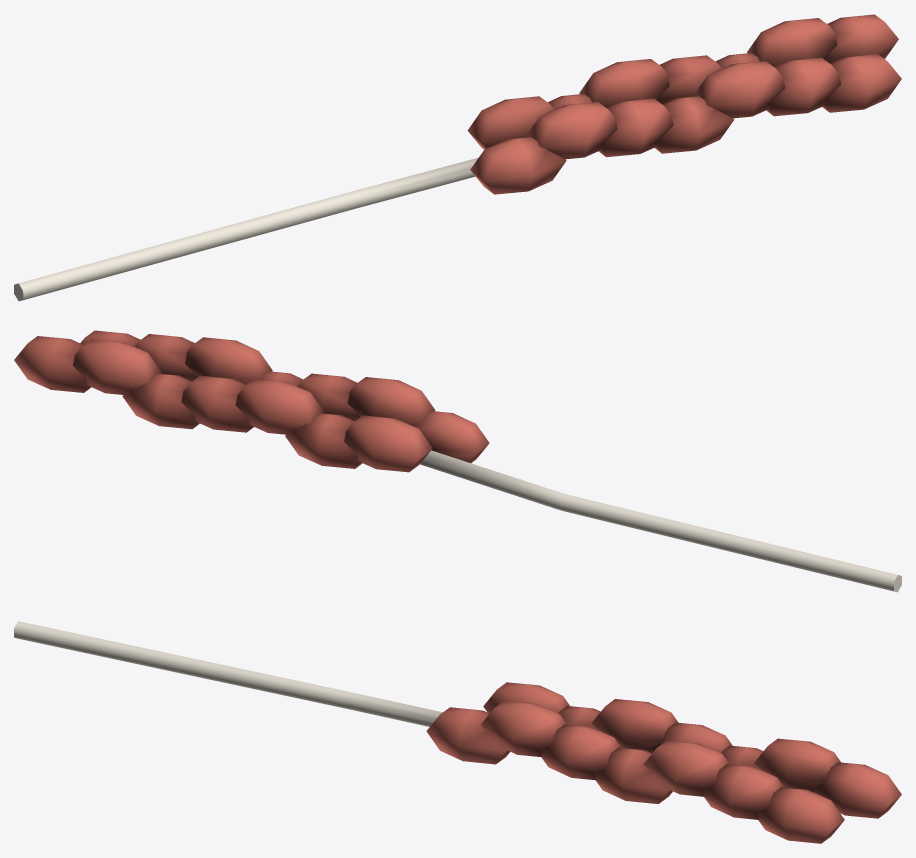
The model's file is forage_grain.glb.
3 views of the same model, one above another, from view 1: azimuth 30°, elevation 25°; view 2: azimuth 150°, elevation 25°; view 3: azimuth 330°, elevation 25° (orthographic). The views are drawn at different scales.
Visible parts, largest first — view 1: PART; view 2: PART; view 3: PART.
Boxes of the visible parts, <box> form: PART: <box>14,14,901,301</box>; PART: <box>14,330,901,592</box>; PART: <box>14,621,901,843</box>.
Bounding box in the file's own units: 0.1835 × 0.015 × 0.0214.
